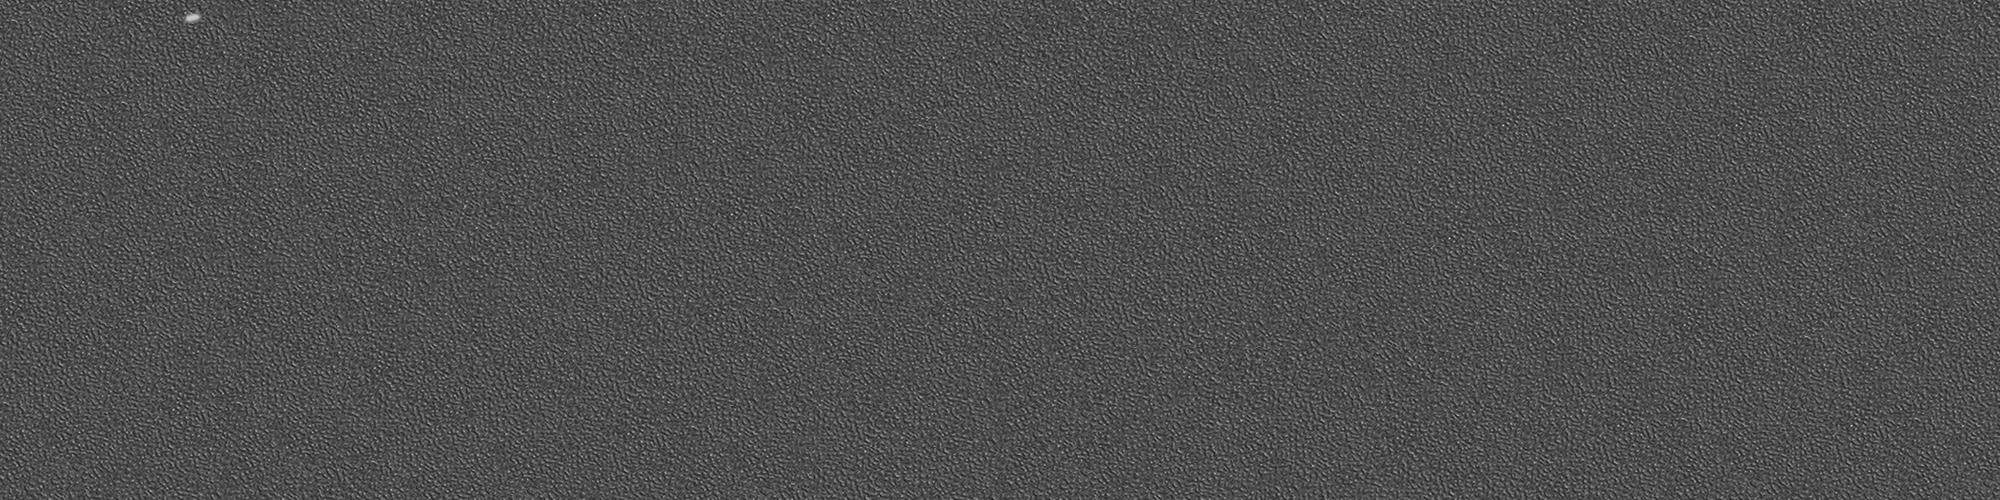Particles: (179, 10, 207, 28)
